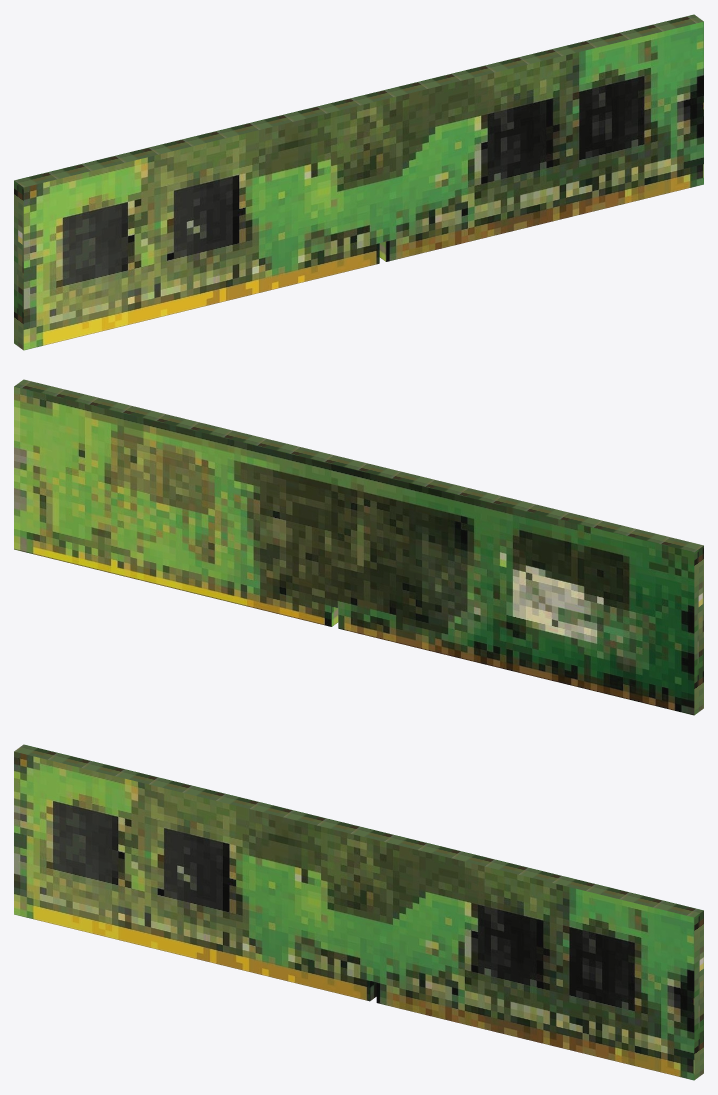
3 renders of one model, top to bottom at view 1: azimuth 30°, elevation 25°; view 2: azimuth 150°, elevation 25°; view 3: azimuth 330°, elevation 25°, orthographic.
Parts seen in each view (by area): view 1: 3DGeom-2_4, 3DGeom-3_5; view 2: 3DGeom-1_3, 3DGeom-3_5; view 3: 3DGeom-2_4, 3DGeom-3_5.
Boxes of the visible parts, x1,y1,x2,y2 form: 3DGeom-2_4: [23, 21, 703, 350]; 3DGeom-3_5: [14, 14, 703, 349]; 3DGeom-1_3: [14, 386, 694, 715]; 3DGeom-3_5: [14, 379, 703, 714]; 3DGeom-2_4: [14, 751, 694, 1080]; 3DGeom-3_5: [14, 744, 703, 1079].
Size of the model in its own units: 0.0634 by 0.0145 by 0.00157.
3 materials, 3 textured.
